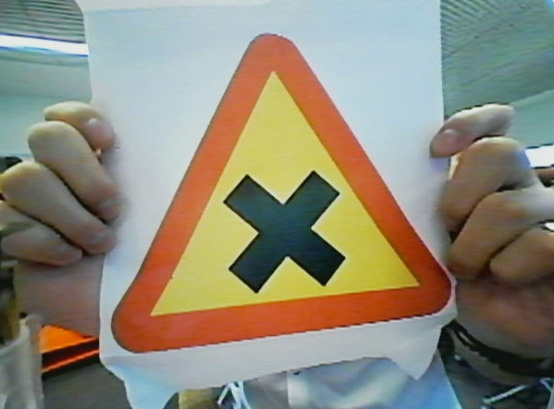junction: (119, 33, 448, 353)
